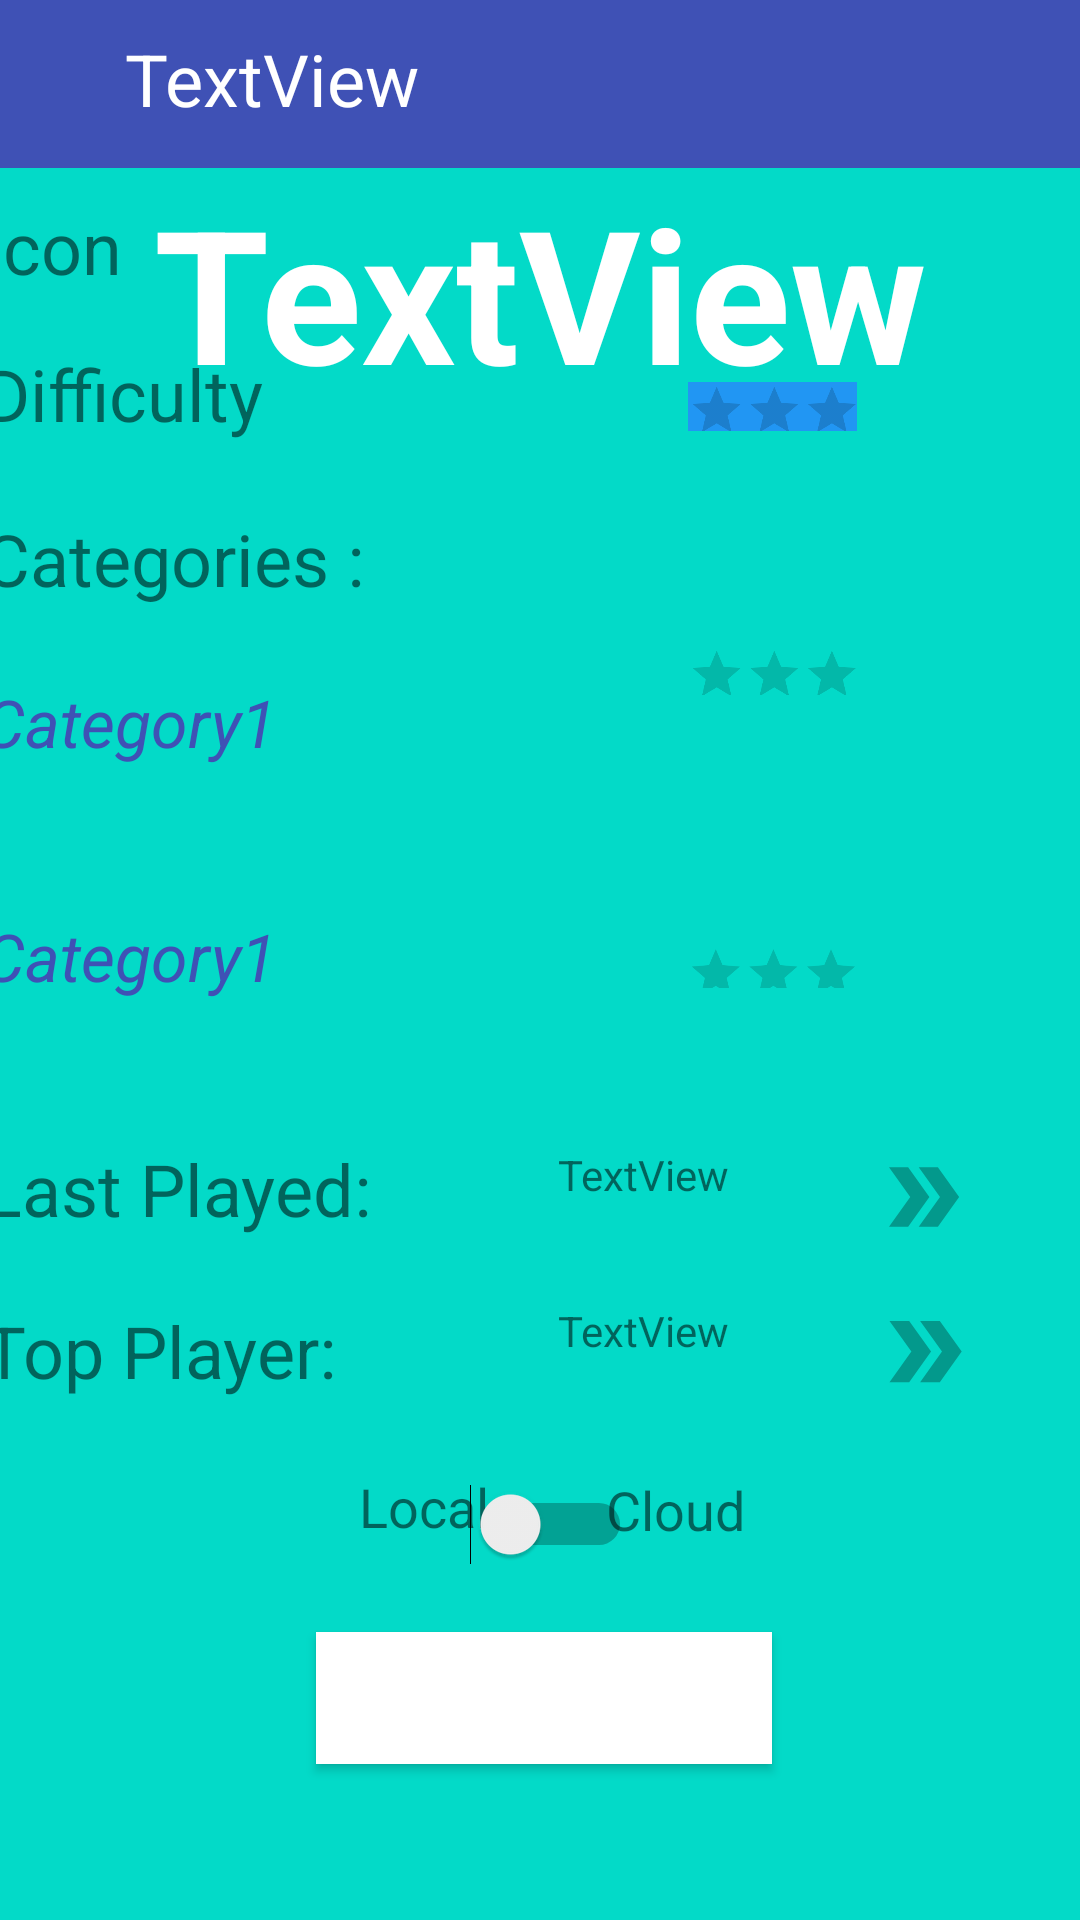

Icon click points for this 1080w x 1920h phone screenshot, format (x=x, y=y):
double arrow: (x=924, y=1197), (x=926, y=1351)
